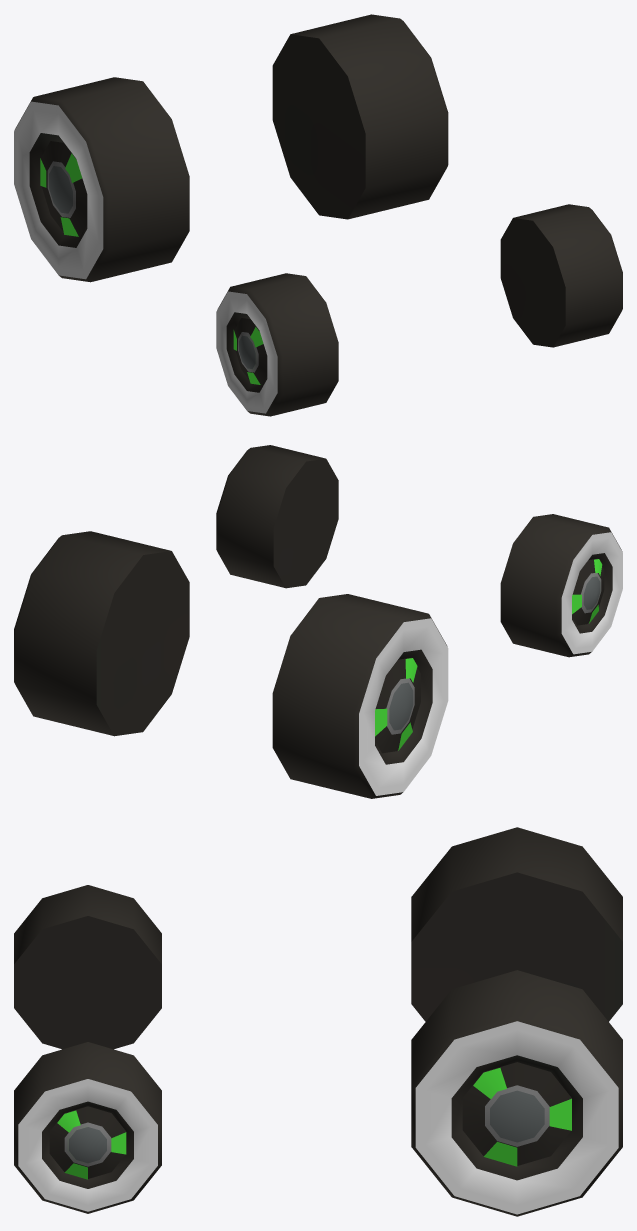
The model's file is BeetleWheel01C04.gltf.
3 renders of one model, top to bottom at view 1: azimuth 30°, elevation 25°; view 2: azimuth 150°, elevation 25°; view 3: azimuth 270°, elevation 25°, orthographic. The views are drawn at different scales.
Parts seen in each view (by area): view 1: BeetleWheel01C04; view 2: BeetleWheel01C04; view 3: BeetleWheel01C04.
Part boxes in pixels (<box>): BeetleWheel01C04: <box>14,14,622,416</box>; BeetleWheel01C04: <box>14,445,622,798</box>; BeetleWheel01C04: <box>14,827,622,1216</box>.
Bounding box in the file's own units: 0.2046 × 0.098 × 0.2682.
